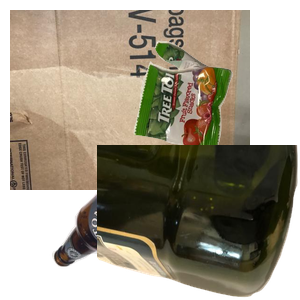cardboard: (10, 10, 250, 190)
glass: (49, 145, 229, 300)
plastic: (97, 145, 300, 300)
trash: (131, 38, 300, 182)
